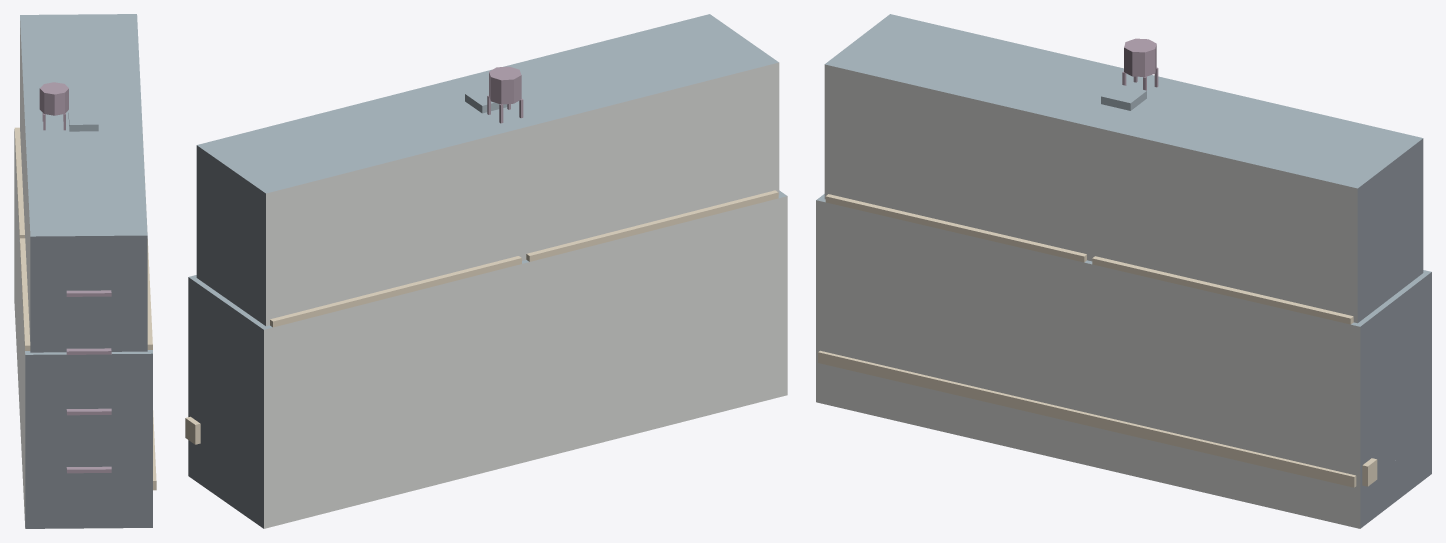
Rendered from doitt-925937__lod_1.glb.
3 views of the same model, side by side, from view 1: azimuth 30°, elevation 25°; view 2: azimuth 150°, elevation 25°; view 3: azimuth 270°, elevation 25° (orthographic). The views are drawn at different scales.
Bounding box in the file's own units: 18.86 × 18.34 × 26.93.
